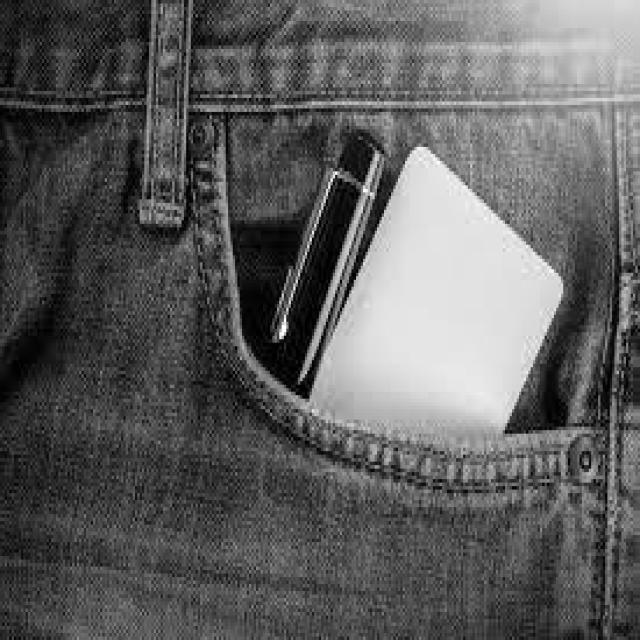No gun_phone: (311, 151, 562, 438)
